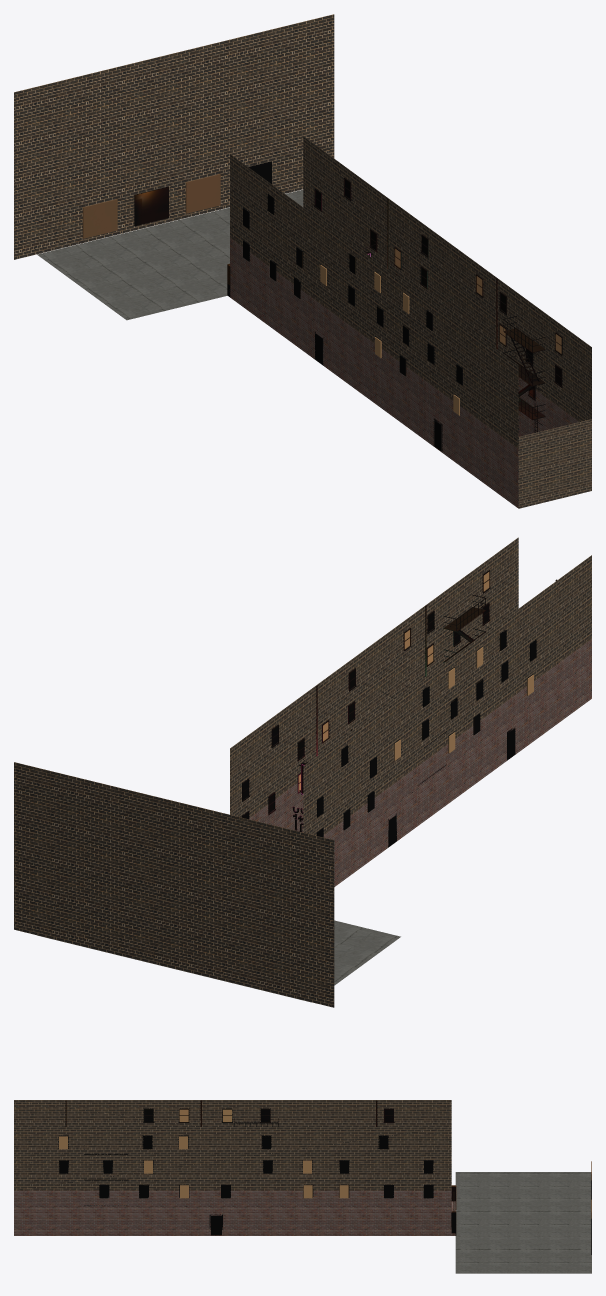
Rendered from env_alley.glb.
3 views of the same model, one above another, from view 1: azimuth 30°, elevation 25°; view 2: azimuth 150°, elevation 25°; view 3: azimuth 270°, elevation 25° (orthographic). The views are drawn at different scales.
Visible parts, largest first — view 1: SHELL, SHELL_HI, PROPS; view 2: SHELL, SHELL_HI, PROPS; view 3: SHELL_HI, SHELL, PROPS.
Boxes of the visible parts, x1=… form: SHELL: x1=14, y1=14, x2=591, y2=508; SHELL_HI: x1=230, y1=136, x2=591, y2=448; PROPS: x1=82, y1=161, x2=562, y2=452; SHELL: x1=14, y1=639, x2=591, y2=1007; SHELL_HI: x1=230, y1=537, x2=591, y2=835; PROPS: x1=242, y1=570, x2=557, y2=847; SHELL_HI: x1=14, y1=1100, x2=451, y2=1190; SHELL: x1=14, y1=1172, x2=591, y2=1273; PROPS: x1=58, y1=1100, x2=591, y2=1254.
Size of the model in its own units: 28 by 14.02 by 57.7.
Materials: 10 (6 with a texture image).
